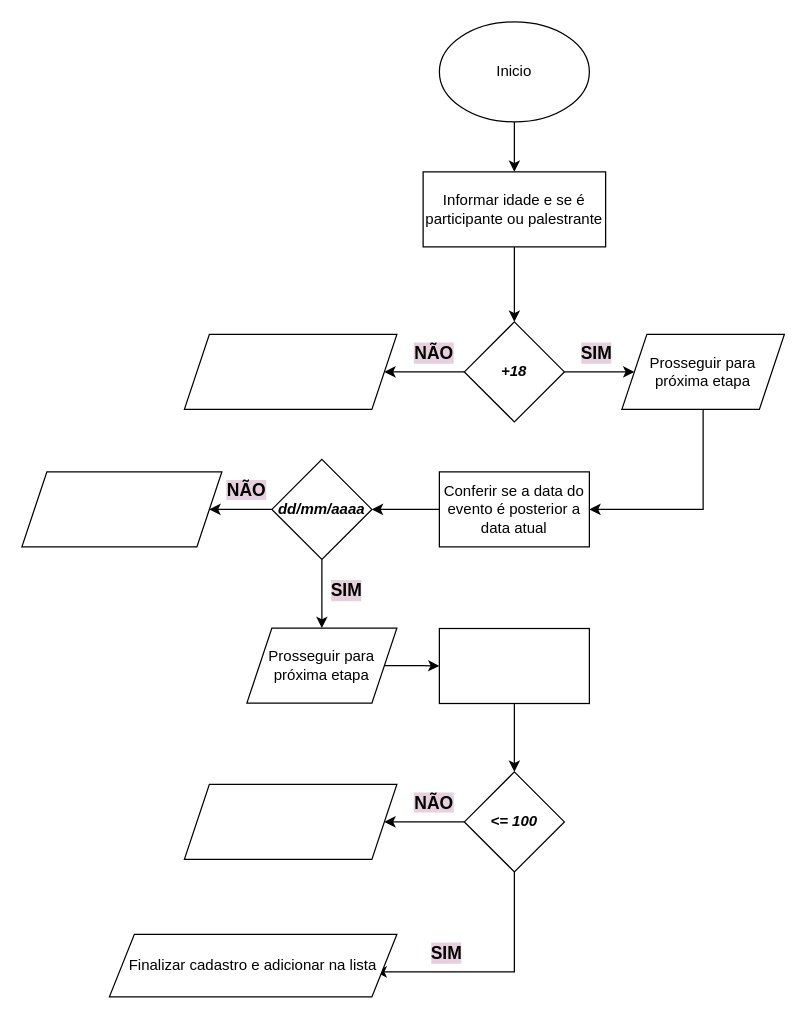
Image size: 806x1019. Some labels were removed from this diagram. Each missing label, with the centre of its shape:
Conferir quantidade de participantes e palestrantes: pixel 513 665
interromper cadastro "Data inválida": pixel 121 509
Interromper cadastro "Quantidade de participantes excedida": pixel 290 821
Interromper cadastro com aviso de "Não permitido pela idade": pixel 290 371
